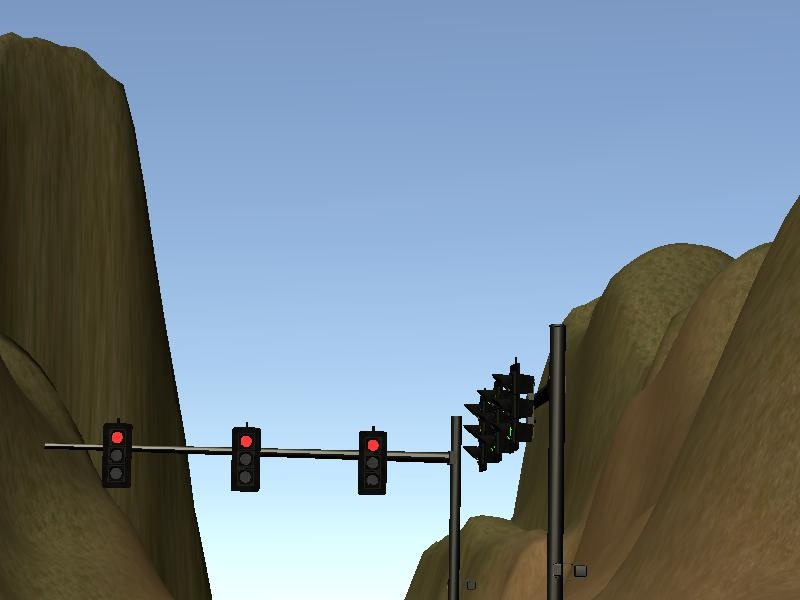red: (354, 424, 393, 502), (227, 419, 263, 499), (100, 419, 136, 492)
